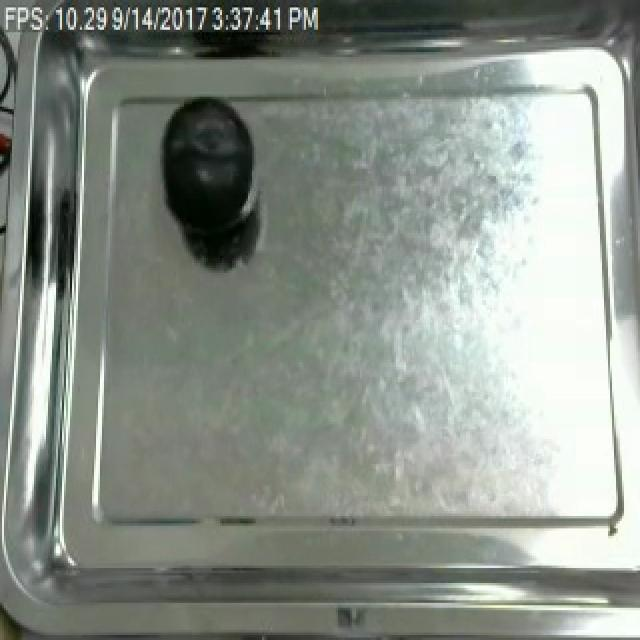Fruit: (156, 92, 262, 248)
